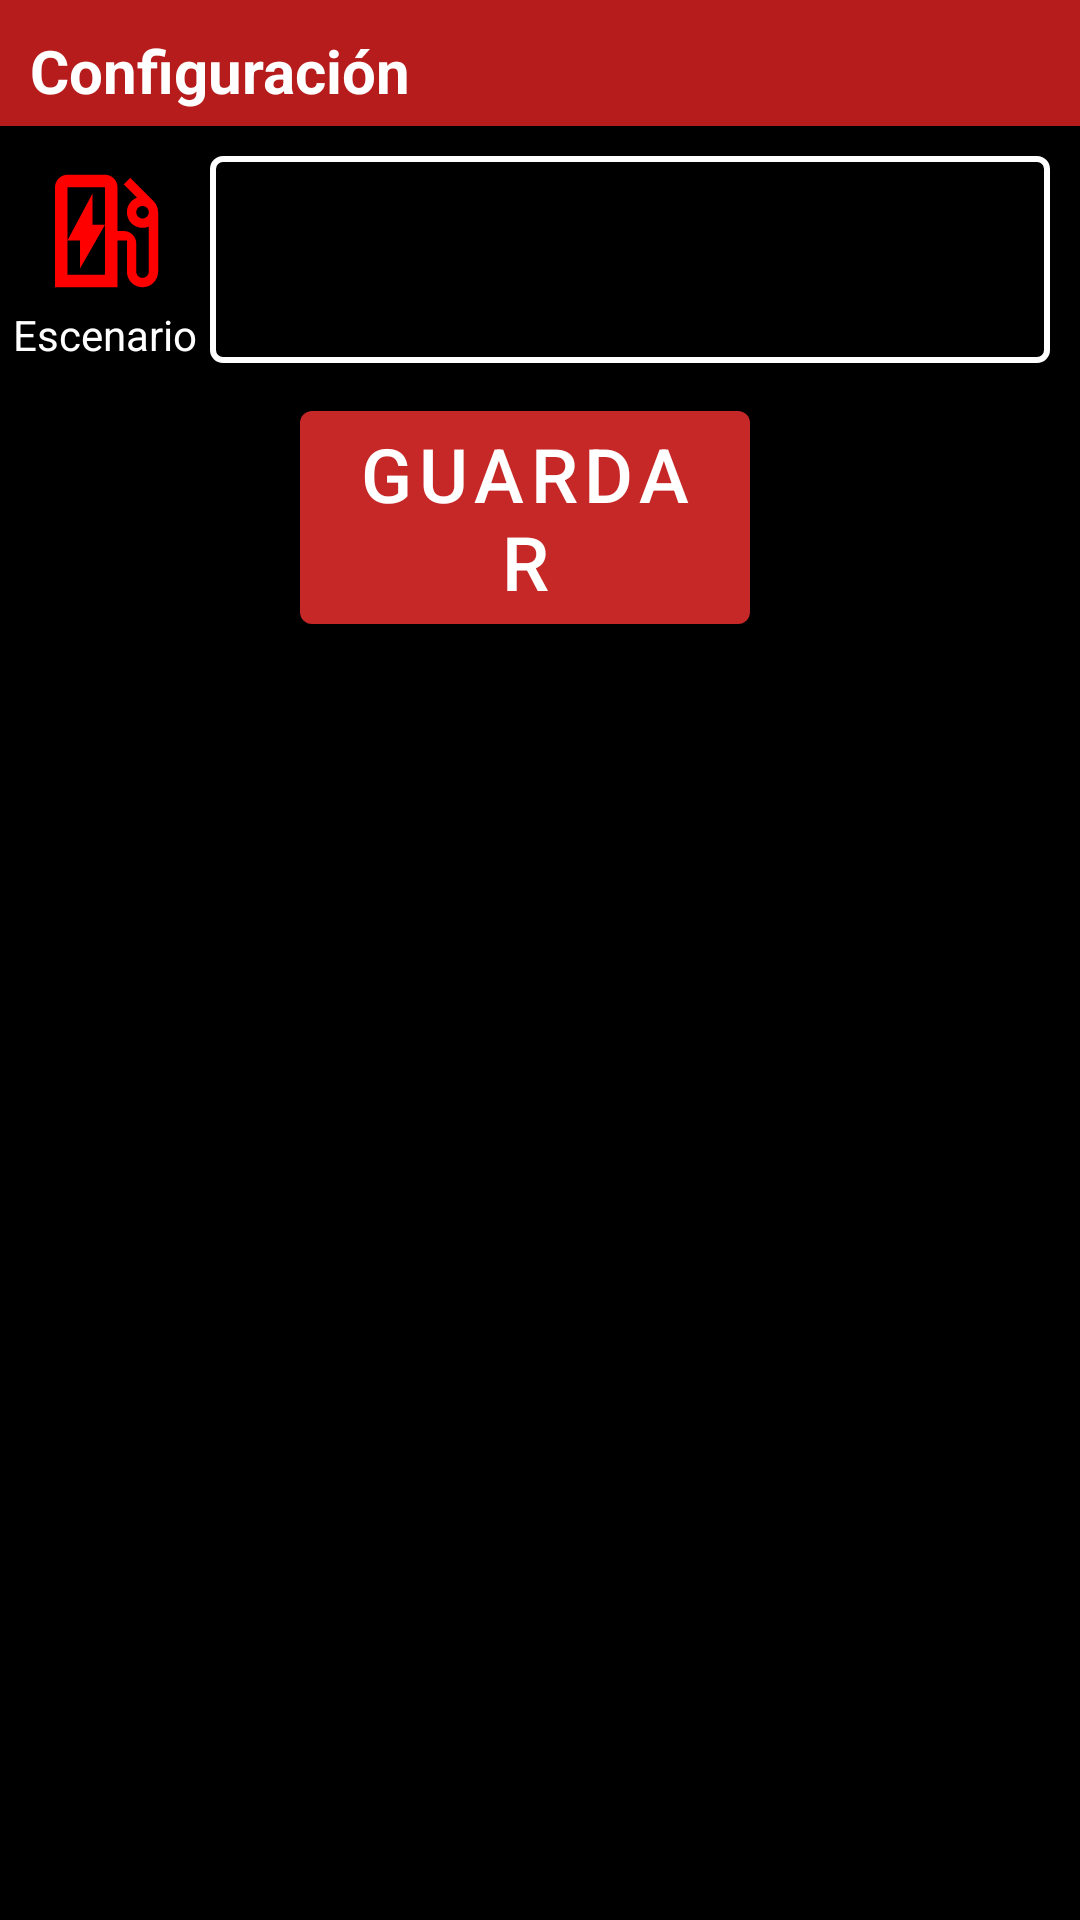

Icon click points for this 1080x1920 phone screenshot, format (x,y):
ev station: (107,231)
